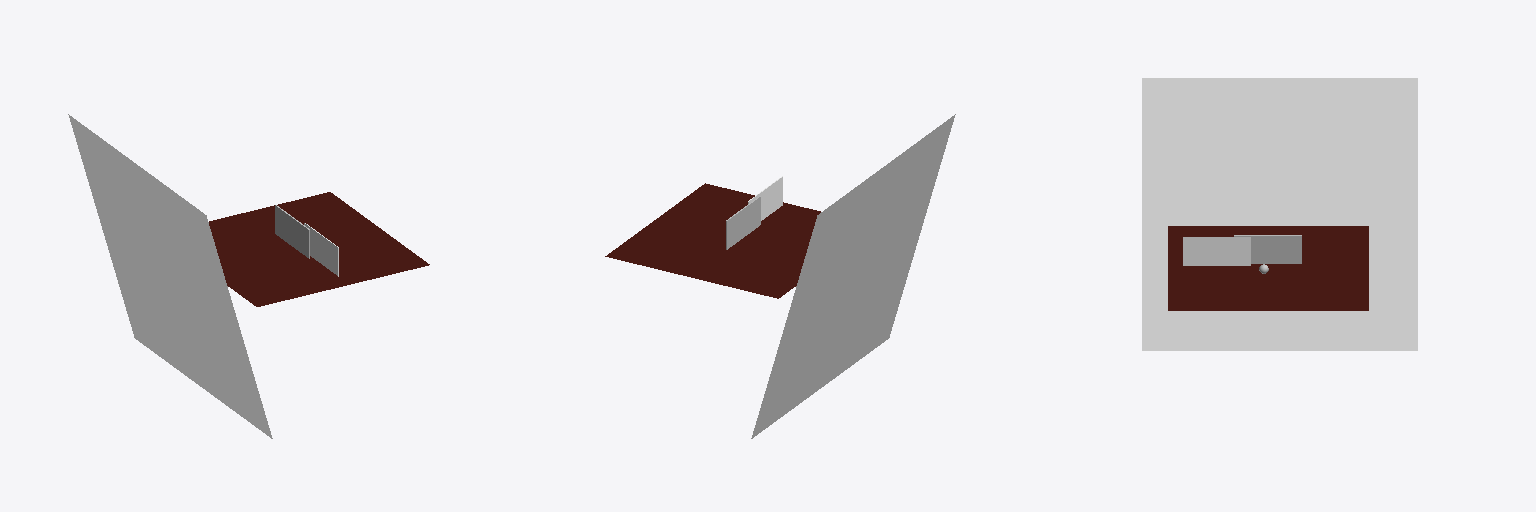
File: translucent-screen.obj
3 views of the same model, side by side, from view 1: azimuth 30°, elevation 25°; view 2: azimuth 150°, elevation 25°; view 3: azimuth 270°, elevation 25° (orthographic).
Parts seen in each view (by area): view 1: Plane.001, Plane, Glass_Pane, Glass_Pane.001; view 2: Plane.001, Plane, Glass_Pane, Glass_Pane.001; view 3: Plane.001, Plane, Glass_Pane.001, Glass_Pane.
Boxes of the visible parts, x1,y1,x2,y2 form: Plane.001: [68, 114, 272, 438]; Plane: [209, 192, 429, 306]; Glass_Pane: [275, 205, 309, 258]; Glass_Pane.001: [304, 223, 338, 276]; Plane.001: [751, 114, 955, 438]; Plane: [605, 183, 820, 298]; Glass_Pane: [726, 196, 760, 249]; Glass_Pane.001: [748, 176, 782, 220]; Plane.001: [1142, 78, 1417, 350]; Plane: [1168, 226, 1368, 310]; Glass_Pane.001: [1183, 237, 1250, 265]; Glass_Pane: [1234, 235, 1301, 263].
Size of the model in its own units: 13.81 by 13.38 by 13.93.